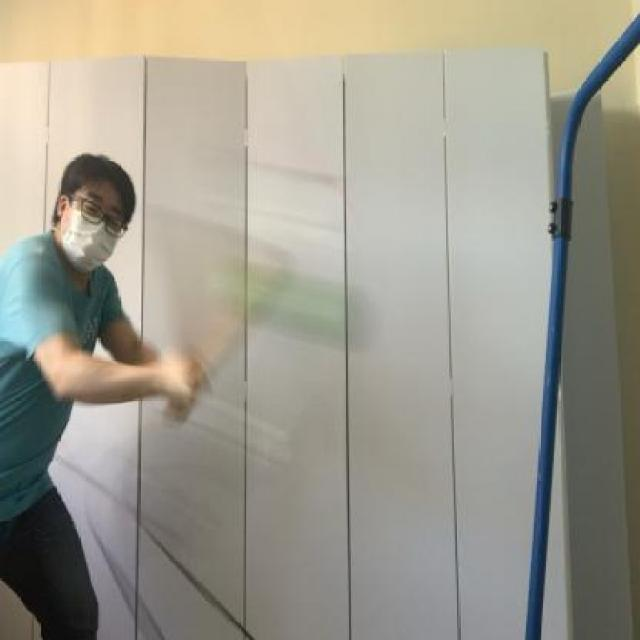baseball: (195, 260, 378, 355)
